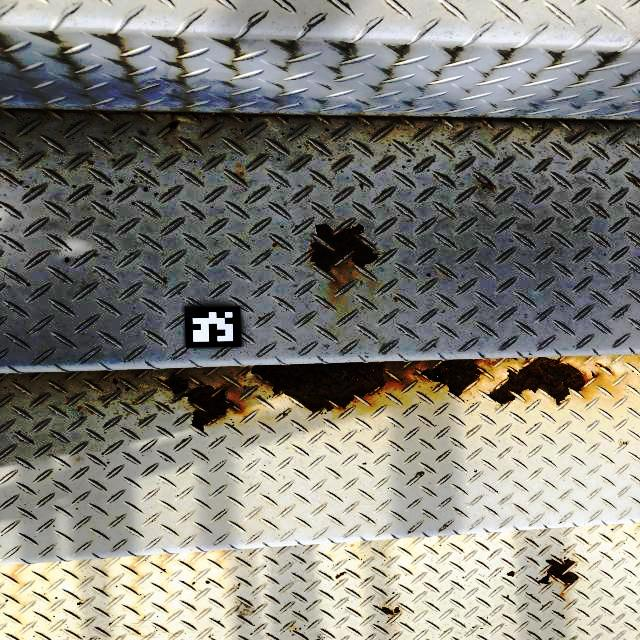Corrosion: (252, 362, 385, 412), (490, 357, 586, 405), (310, 224, 378, 272), (415, 359, 482, 396), (184, 385, 235, 431), (538, 554, 579, 584), (166, 377, 188, 394), (381, 606, 401, 616), (168, 122, 178, 129)
